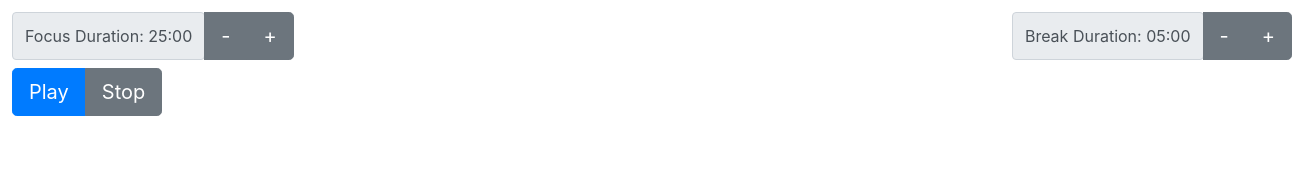
Test: Pomodoro Timer › Focus duration › increases by 5 minutes when clicking + button
What coordinates should you click on to do the following:
click the button with test id "increase-focus"
I would click on:
 (270, 36)
Its box is [246,12,294,60].
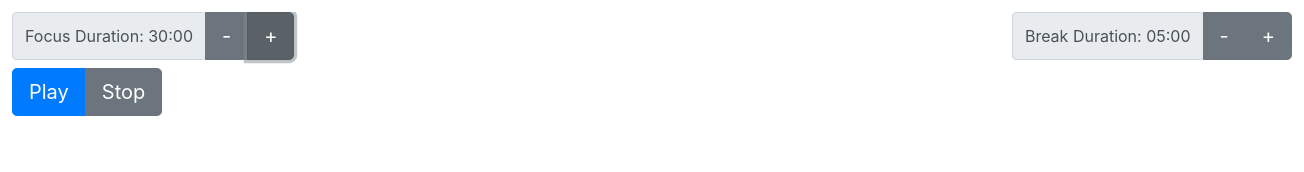
Expected: the text with test id "duration-focus" reads "Focus Duration: 30:00", [12,12,206,60]
What coordinates should you click on to do the following:
click the button with test id "increase-focus"
I would click on:
 (271, 36)
Its box is [247,12,294,60].
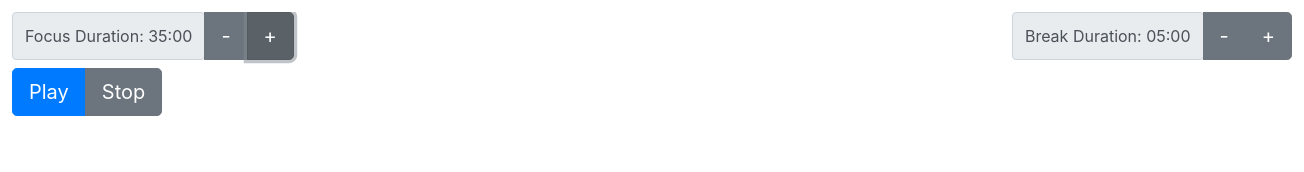
Expected: the text with test id "duration-focus" reads "Focus Duration: 35:00", [12,12,205,60]
